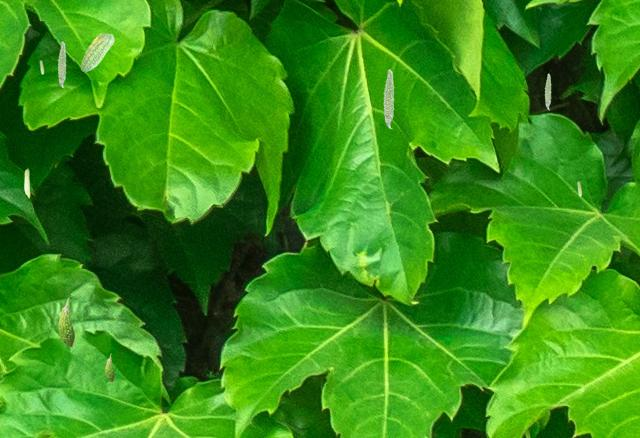ampalaya: (80, 32, 114, 72), (57, 297, 75, 348), (382, 68, 394, 129), (57, 41, 66, 88), (104, 353, 115, 382), (544, 73, 551, 110), (24, 167, 30, 198), (576, 180, 582, 196), (39, 59, 44, 74)
